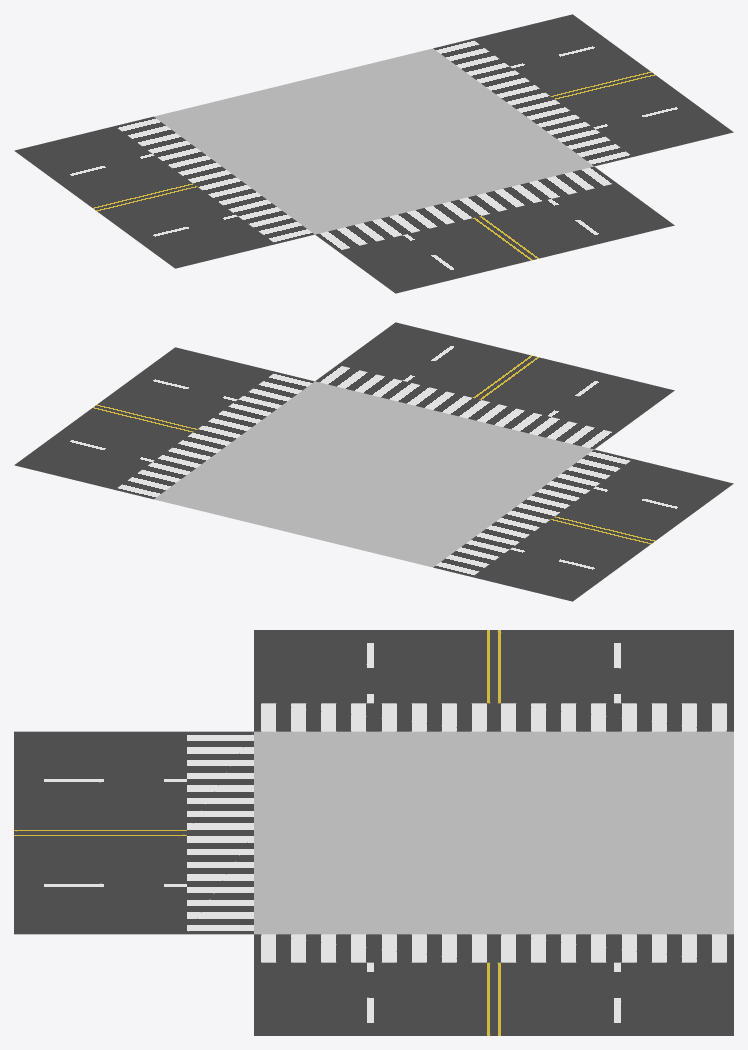
Rendered from Road_T_Double.fbx.
The picture shows the model from 3 angles, top to bottom: view 1: azimuth 30°, elevation 25°; view 2: azimuth 150°, elevation 25°; view 3: azimuth 270°, elevation 25°; orthographic projection. The views are drawn at different scales.
Parts seen in each view (by area): view 1: Road_T_Double; view 2: Road_T_Double; view 3: Road_T_Double.
Boxes of the visible parts, <box> form: Road_T_Double: <box>14,14,733,293</box>; Road_T_Double: <box>14,322,733,601</box>; Road_T_Double: <box>14,630,733,1035</box>.
Bounding box in the file's own units: 1600 × 0 × 1200.
